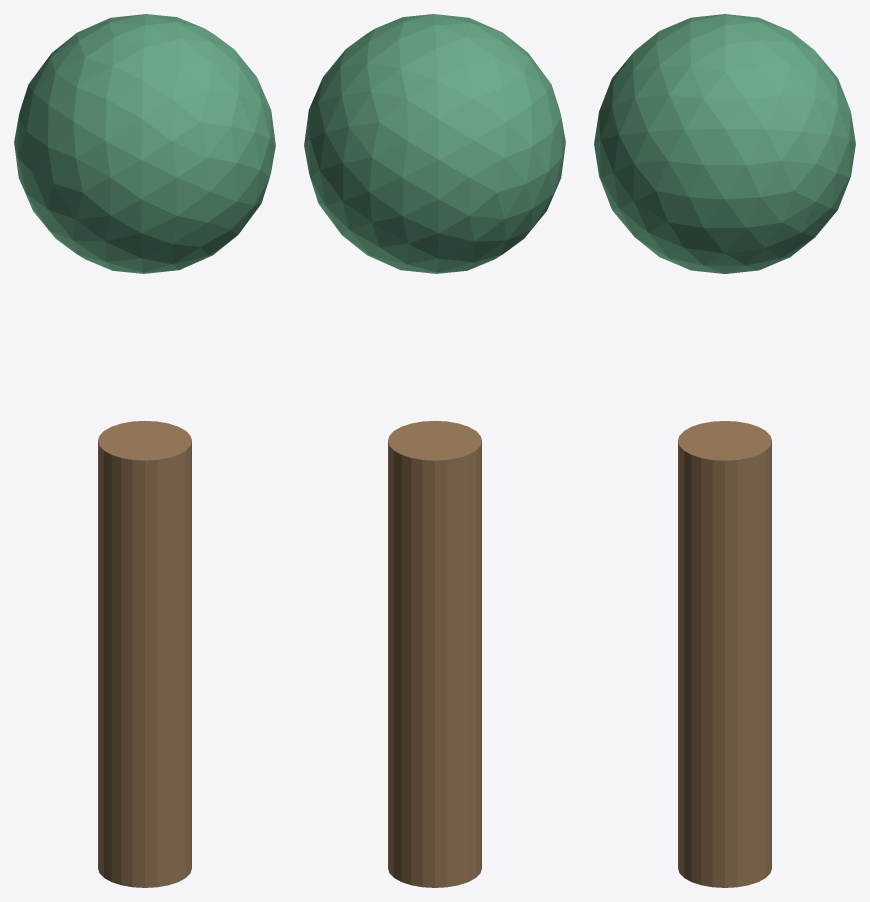
Rendered from tree_pine.glb.
3 views of the same model, side by side, from view 1: azimuth 30°, elevation 25°; view 2: azimuth 150°, elevation 25°; view 3: azimuth 270°, elevation 25° (orthographic).
Visible parts, largest first — view 1: crown, trunk; view 2: crown, trunk; view 3: crown, trunk.
Boxes of the visible parts, left/top/right/bottom form: crown: left=14, top=14, right=275, bottom=273; trunk: left=98, top=421, right=191, bottom=887; crown: left=304, top=14, right=565, bottom=273; trunk: left=388, top=421, right=481, bottom=887; crown: left=594, top=14, right=855, bottom=273; trunk: left=678, top=421, right=771, bottom=887.
Size of the model in its own units: 1 by 3.55 by 1.
